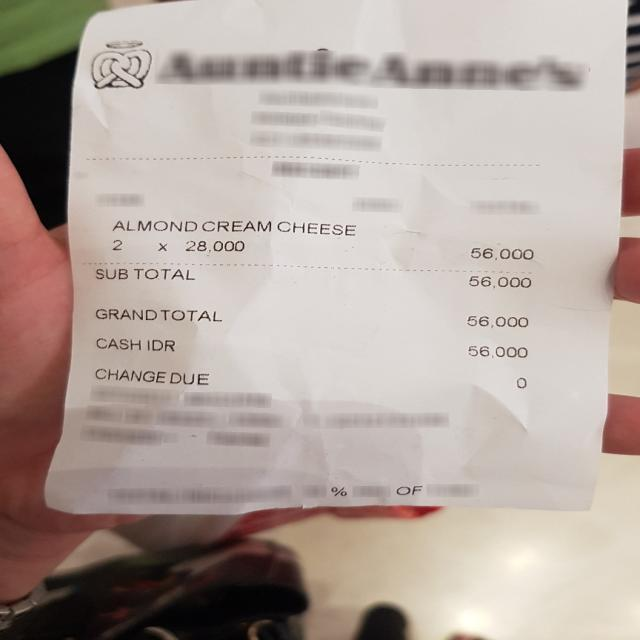kertas: (47, 0, 624, 514)
